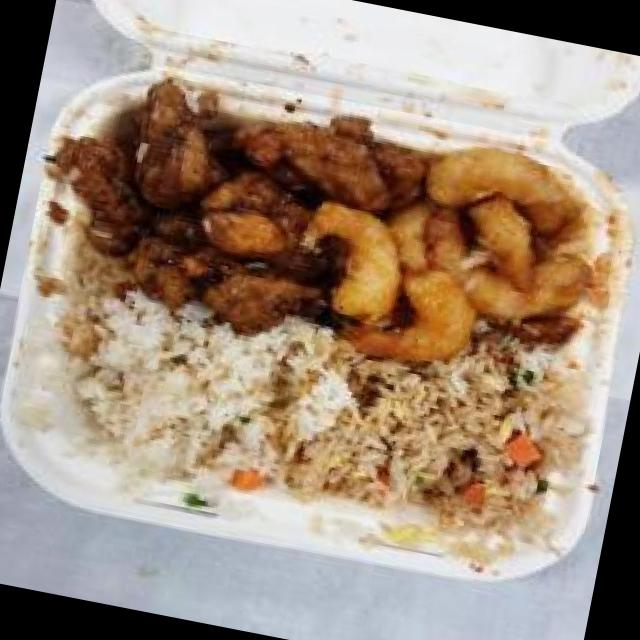Fried Rice: (217, 314, 594, 574)
Honey Walnut Shrimp: (291, 106, 638, 384)
The Original Orange Chicken: (25, 53, 425, 370)
White Steamed Rice: (6, 271, 278, 503)
